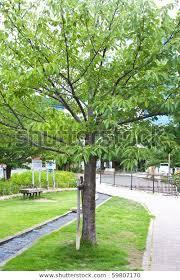tree: (2, 2, 180, 247)
